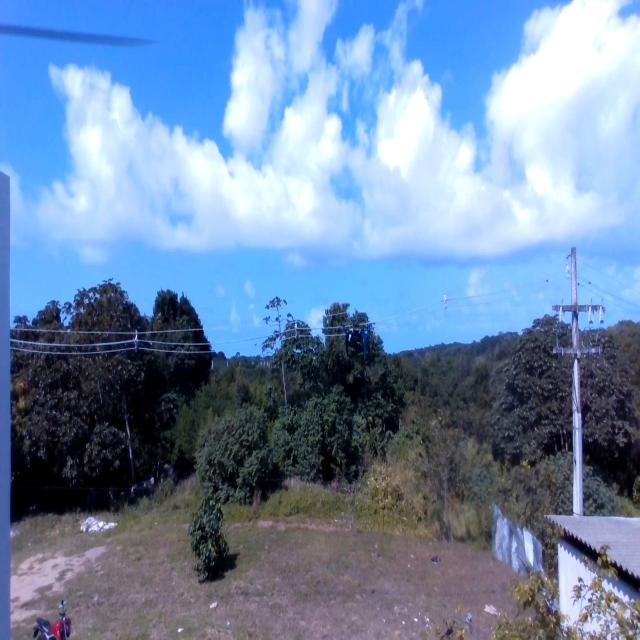-uav-: (342, 320, 371, 360)
